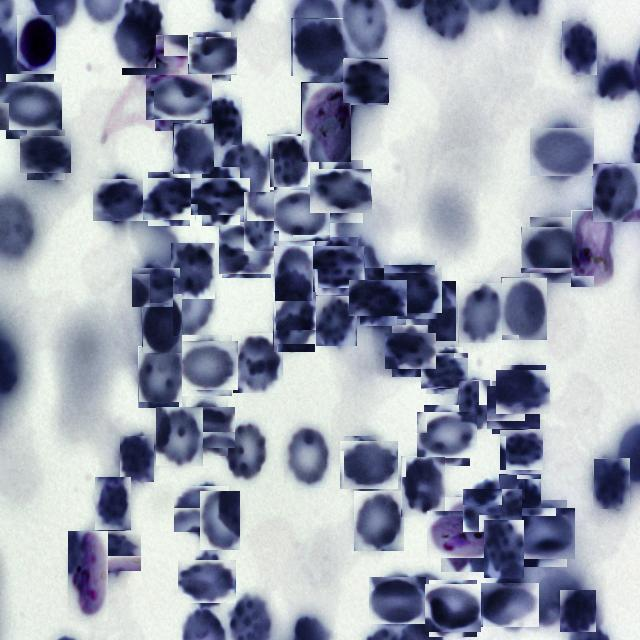leukocyte: (16, 14, 56, 71)
red blood cell: (512, 504, 571, 563), (150, 70, 207, 126), (272, 188, 328, 244), (534, 124, 590, 180), (2, 78, 58, 134), (525, 222, 581, 278), (283, 423, 331, 488), (180, 338, 236, 393), (292, 18, 344, 76), (233, 333, 283, 393), (354, 491, 404, 551), (406, 281, 456, 341), (222, 420, 270, 482), (342, 438, 396, 492), (314, 164, 368, 218), (420, 408, 474, 462), (501, 277, 547, 340), (221, 141, 270, 199), (592, 163, 640, 222), (386, 263, 439, 316), (156, 407, 203, 466), (372, 574, 424, 627), (427, 582, 479, 635), (457, 282, 502, 343), (138, 346, 182, 408), (220, 224, 272, 276), (484, 579, 536, 631), (401, 456, 445, 517), (468, 484, 518, 536), (273, 292, 316, 352), (276, 269, 318, 330), (176, 484, 227, 534), (182, 556, 232, 606), (182, 402, 232, 452), (312, 242, 362, 292), (88, 526, 138, 576), (171, 243, 215, 299), (499, 367, 548, 417), (142, 294, 182, 353), (200, 491, 240, 550), (490, 383, 538, 432), (197, 172, 246, 220), (114, 12, 156, 68), (484, 520, 524, 578), (173, 278, 213, 336), (96, 176, 144, 224), (145, 175, 193, 223), (354, 274, 402, 322), (266, 133, 308, 187), (499, 474, 541, 524), (173, 123, 214, 174), (275, 246, 313, 301), (316, 296, 357, 346), (561, 20, 597, 75), (344, 59, 388, 104), (190, 34, 234, 78), (24, 132, 68, 176), (388, 329, 432, 373), (134, 266, 178, 310), (95, 477, 131, 530), (593, 458, 630, 509), (203, 97, 242, 145), (243, 191, 274, 251), (424, 349, 466, 392), (500, 428, 542, 471), (458, 380, 490, 429), (120, 436, 154, 482), (560, 590, 596, 632)
trophozoite: (301, 82, 351, 162), (434, 504, 496, 565), (68, 531, 108, 621), (571, 210, 614, 287), (128, 28, 182, 82)
